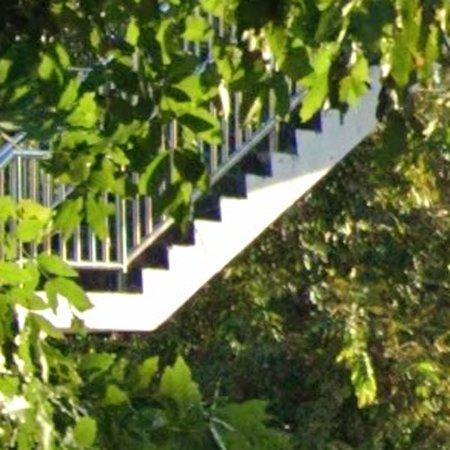stairs: (43, 66, 381, 333)
